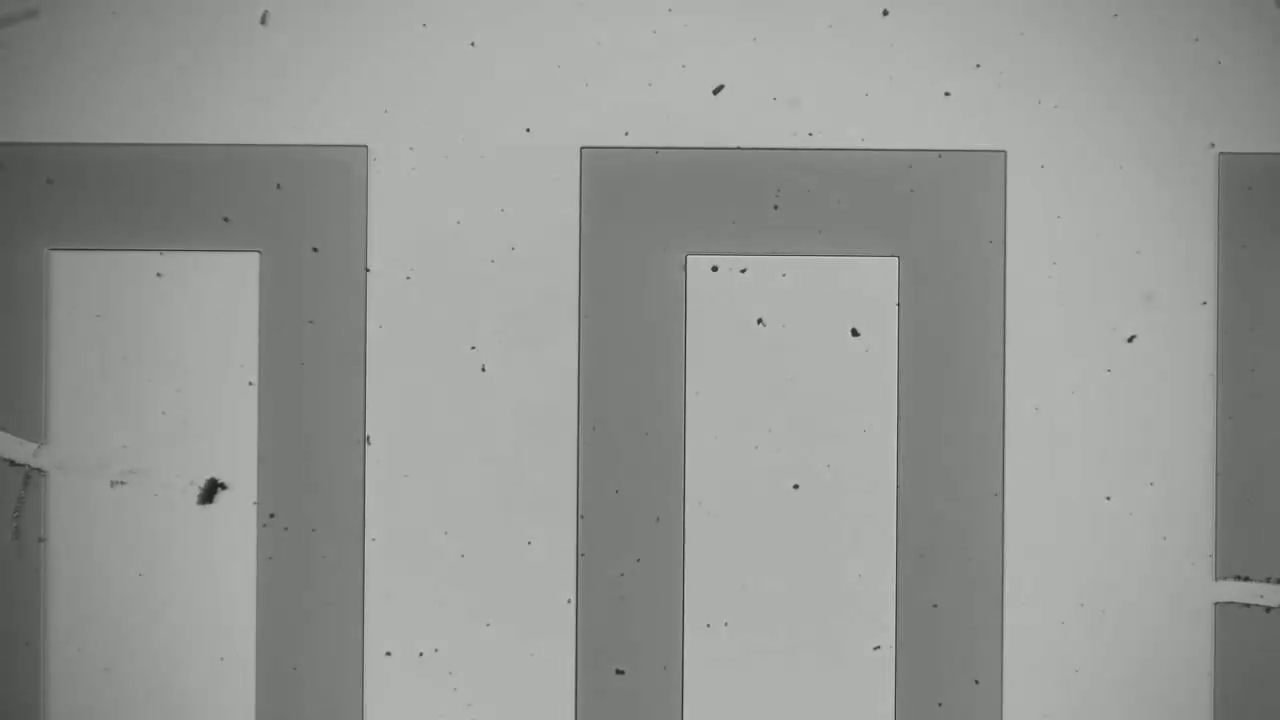Short_circuit: (1, 401, 89, 491), (1197, 555, 1280, 627)
